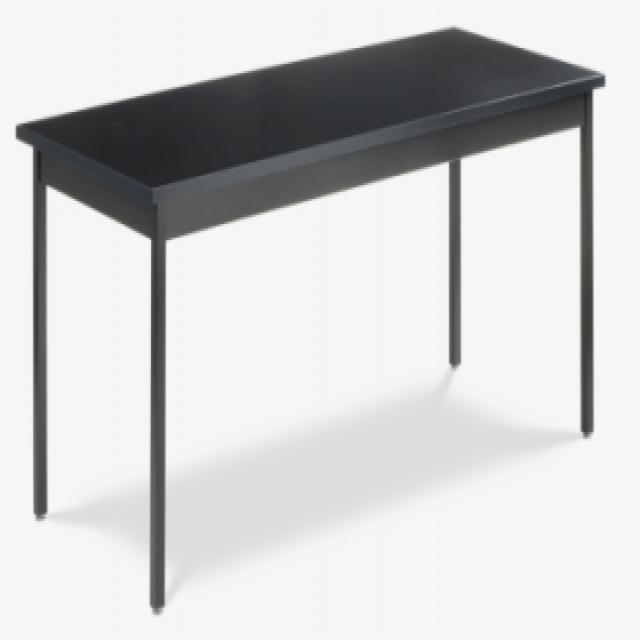Table: (16, 6, 640, 621)
